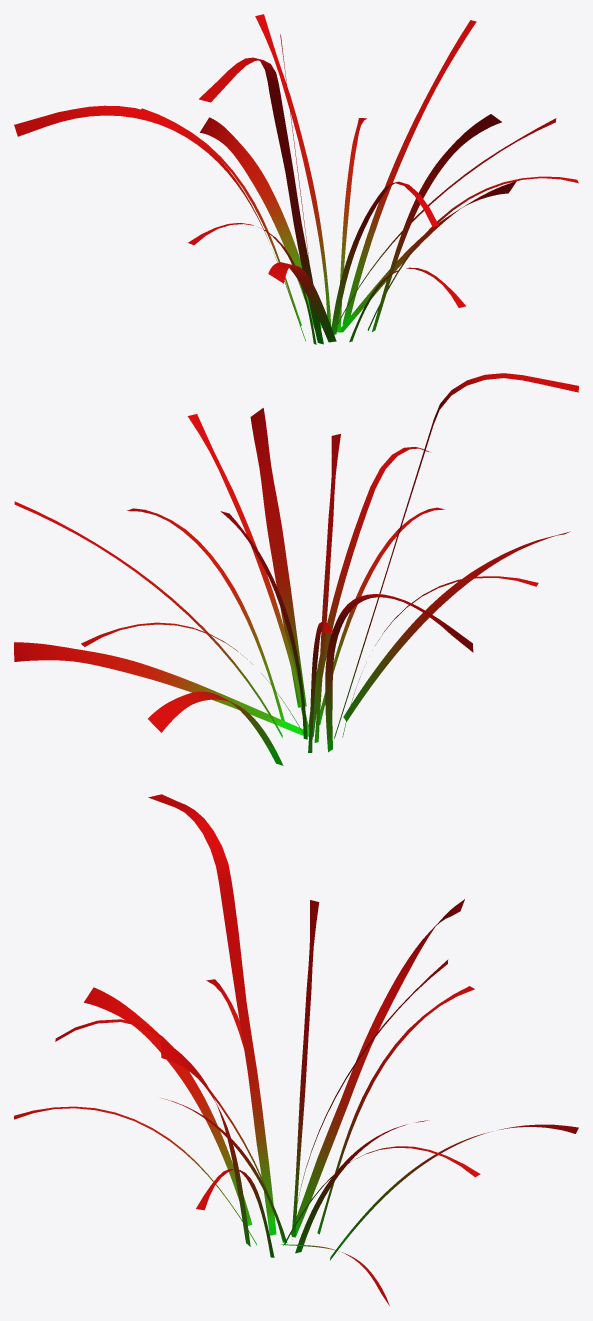
The model's file is tdcnfcdr_Var5_LOD0.fbx.
The picture shows the model from 3 angles, top to bottom: view 1: azimuth 30°, elevation 25°; view 2: azimuth 150°, elevation 25°; view 3: azimuth 270°, elevation 25°; orthographic projection. The views are drawn at different scales.
Parts seen in each view (by area): view 1: _46d6_Var5_LOD0; view 2: _46d6_Var5_LOD0; view 3: _46d6_Var5_LOD0.
Part boxes in pixels (box(x1,y1,x2,y2)): _46d6_Var5_LOD0: box(14, 14, 578, 344); _46d6_Var5_LOD0: box(14, 373, 578, 765); _46d6_Var5_LOD0: box(14, 794, 578, 1305).
Size of the model in its own units: 70.7 by 50.57 by 69.35.
